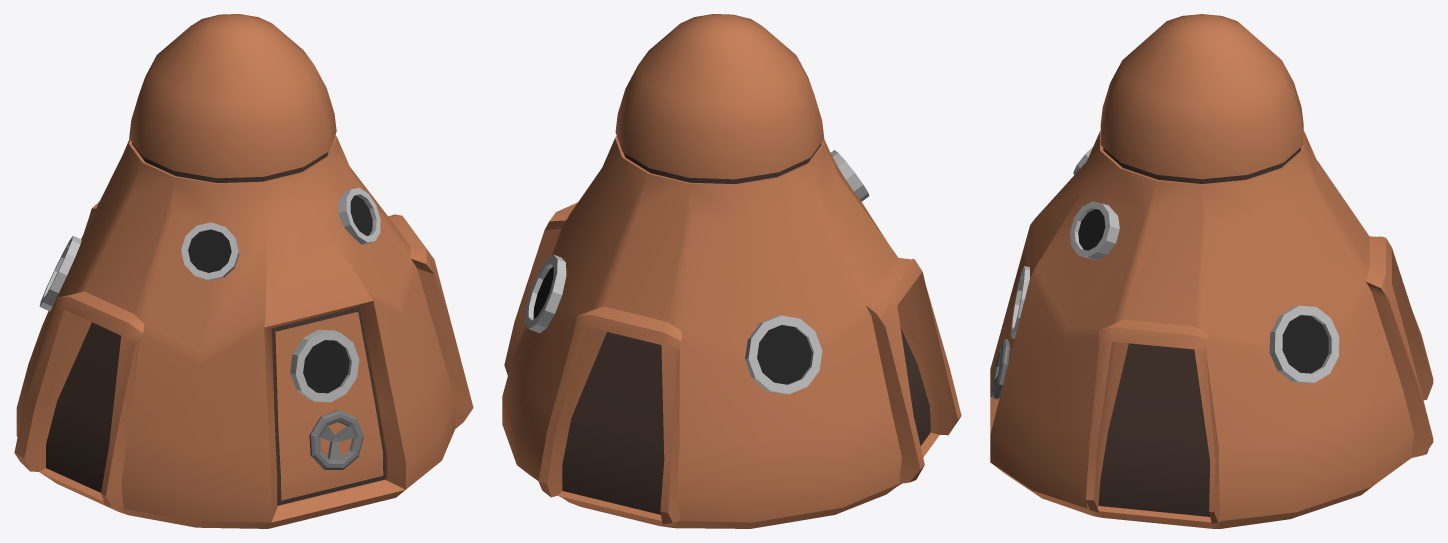
File: environment_CrystalsAndShip.fbx
3 views of the same model, side by side, from view 1: azimuth 30°, elevation 25°; view 2: azimuth 150°, elevation 25°; view 3: azimuth 270°, elevation 25° (orthographic).
Visible parts, largest first — view 1: environment_CrashedShip; view 2: environment_CrashedShip; view 3: environment_CrashedShip.
Part boxes in pixels (x1,y1,x2,y2): environment_CrashedShip: [14, 14, 473, 528]; environment_CrashedShip: [502, 14, 961, 528]; environment_CrashedShip: [990, 14, 1433, 528].
Bounding box in the file's own units: 5.36 × 5.27 × 4.92.
